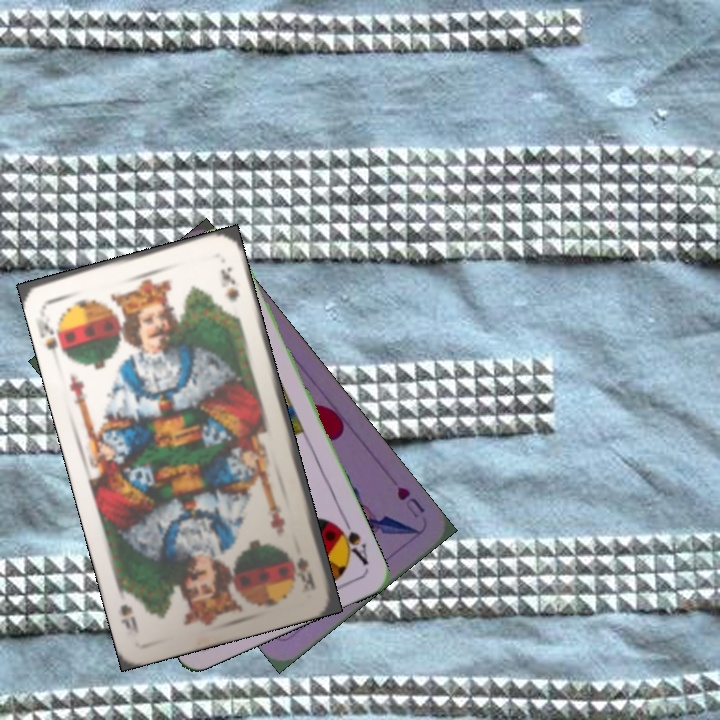HU: (392, 482, 428, 521)
SA: (330, 513, 372, 569)
SK: (35, 303, 70, 361), (292, 553, 318, 594)
